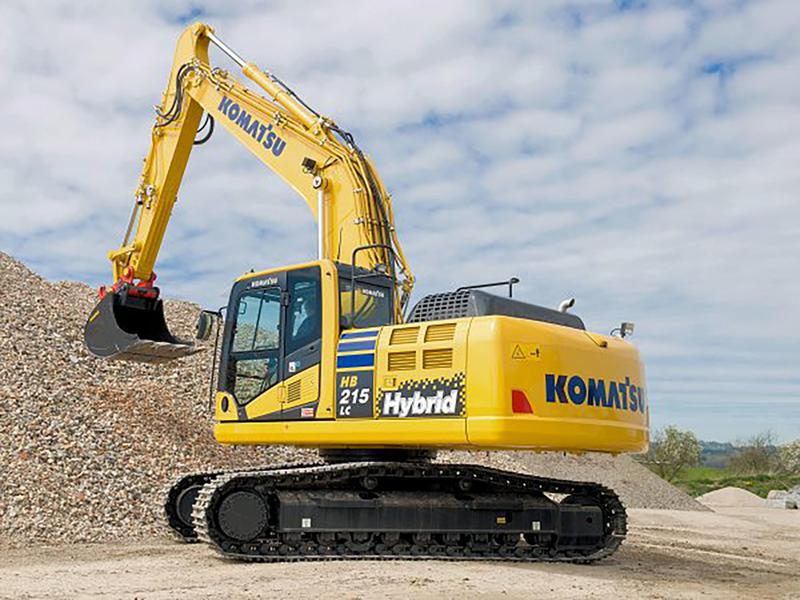shovel: (79, 17, 654, 566)
